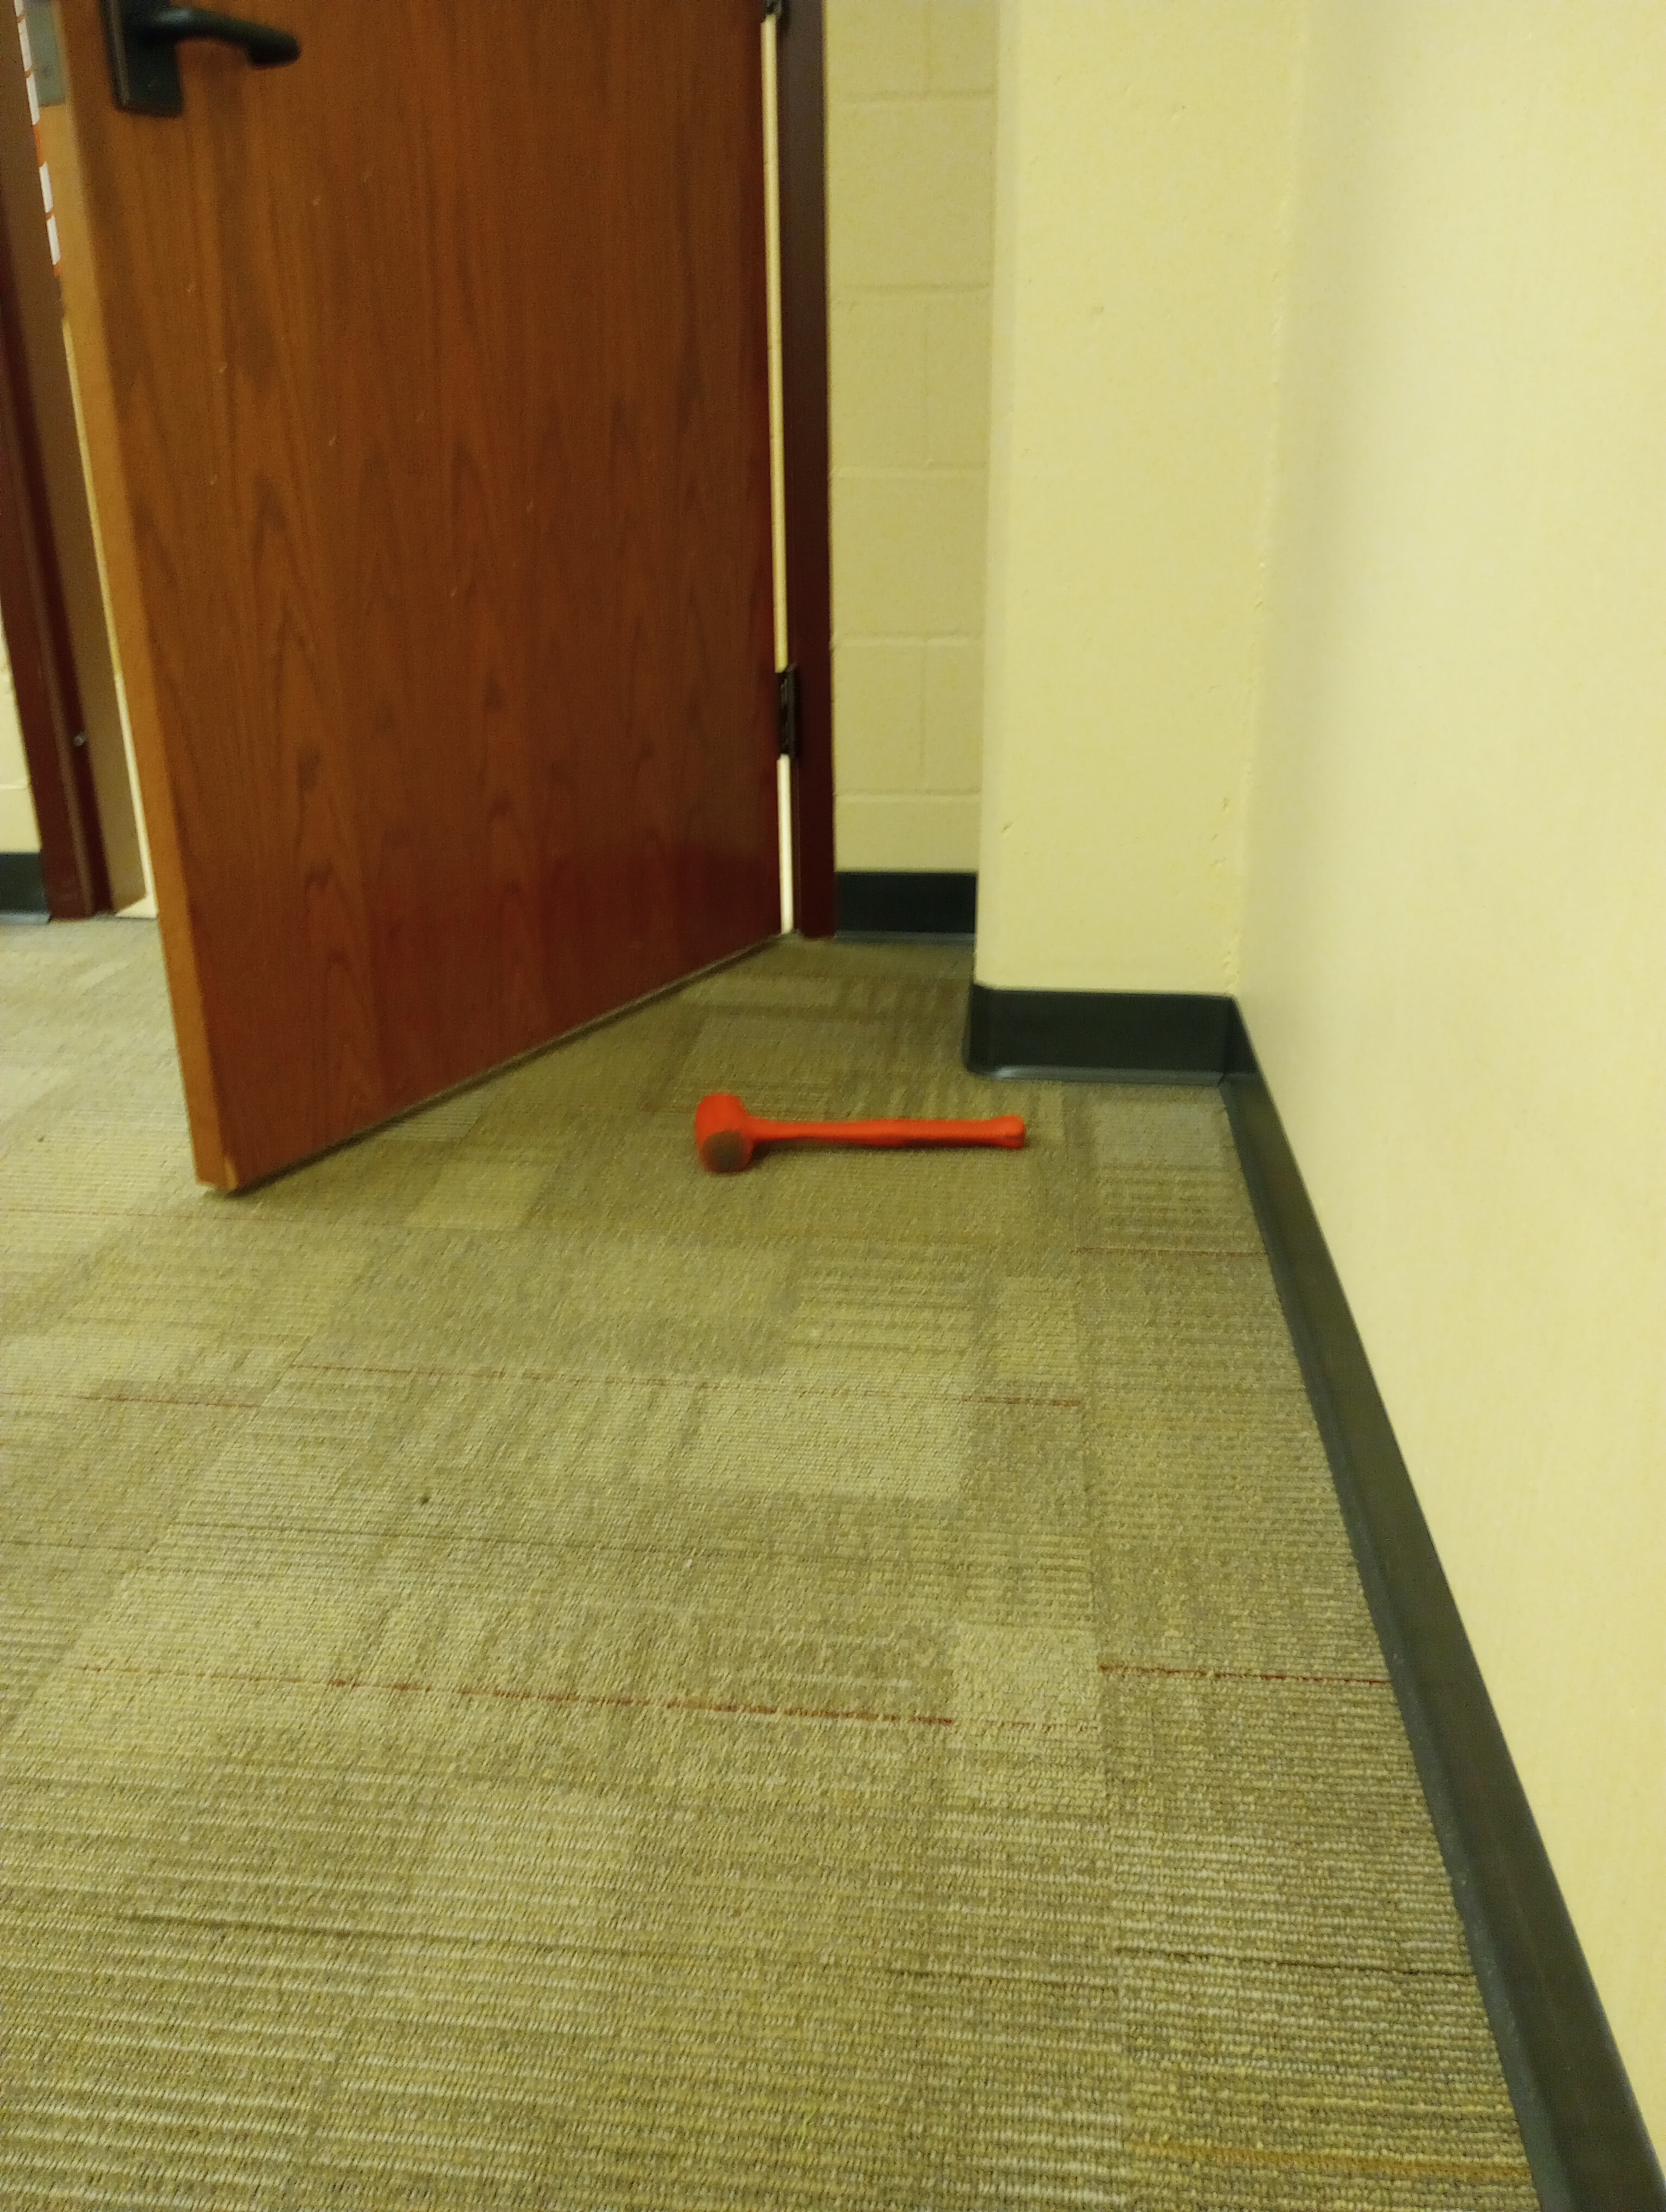hammer: (684, 1067, 1031, 1200)
